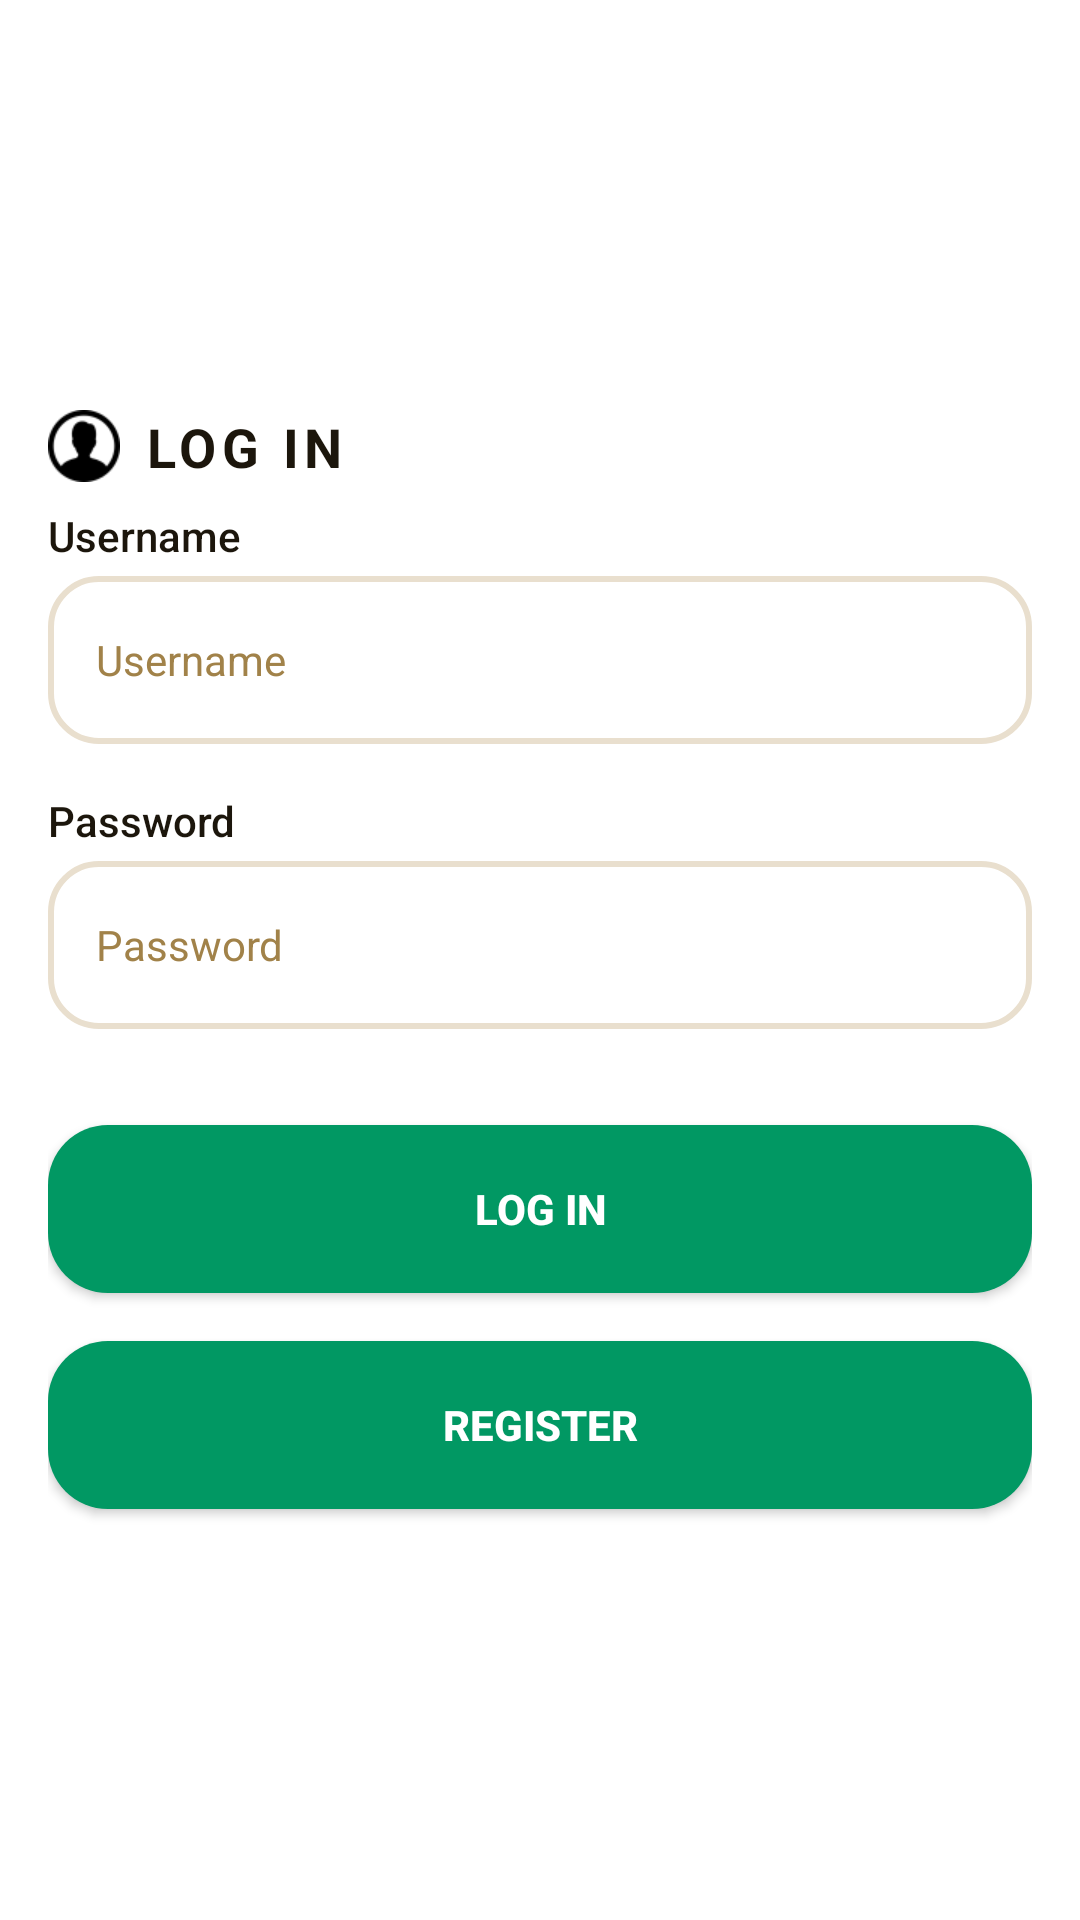

Where to tap for icons on this 1080 × 1920 app screen, as [x,y]:
user circle: [84,446]
